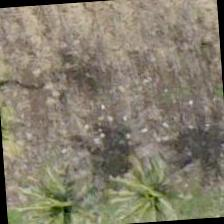Kelapa_Sawit: (108, 142, 204, 223), (15, 162, 111, 223)
